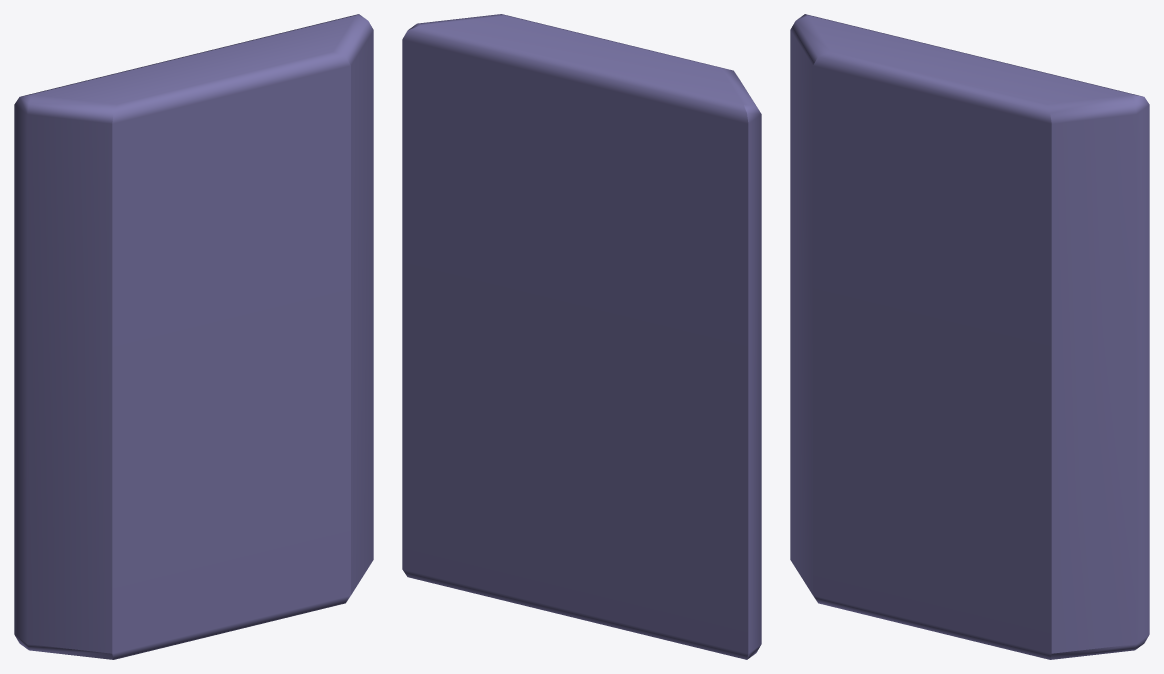
Rendered from estufa02.fbx.
3 views of the same model, side by side, from view 1: azimuth 30°, elevation 25°; view 2: azimuth 150°, elevation 25°; view 3: azimuth 330°, elevation 25° (orthographic).
Visible parts, largest first — view 1: Estufa02; view 2: Estufa02; view 3: Estufa02.
Boxes of the visible parts, left/top/right/bottom form: Estufa02: left=14, top=14, right=373, bottom=659; Estufa02: left=402, top=14, right=761, bottom=659; Estufa02: left=790, top=14, right=1149, bottom=659.
Size of the model in its own units: 0.4877 by 0.7455 by 0.1081.
